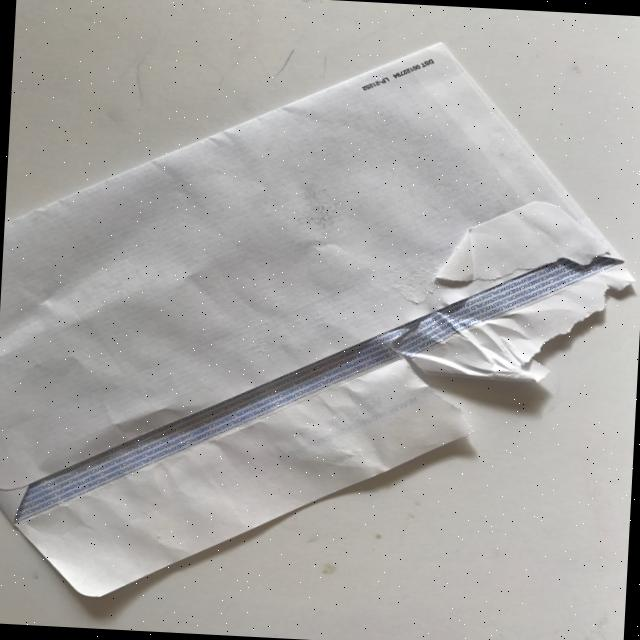paper: (0, 19, 640, 624)
